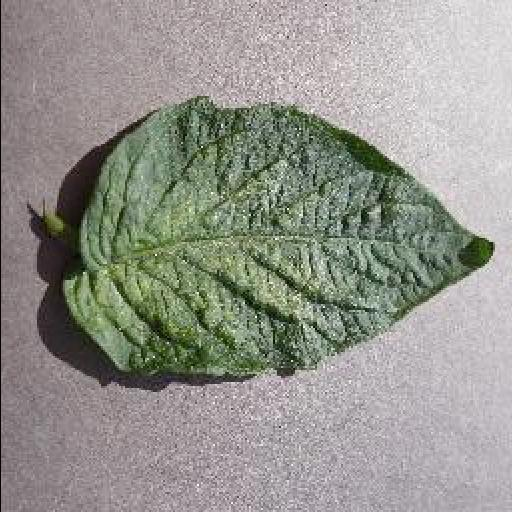disease_tomato: (60, 100, 494, 386)
